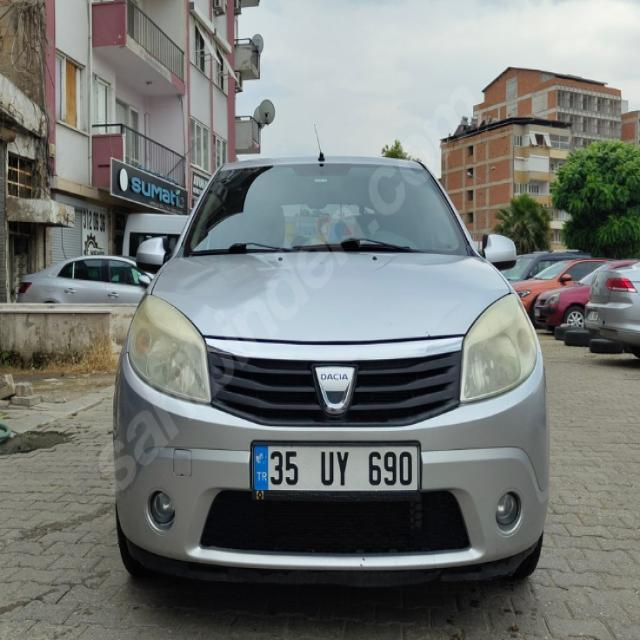dacia: (311, 357, 360, 420)
